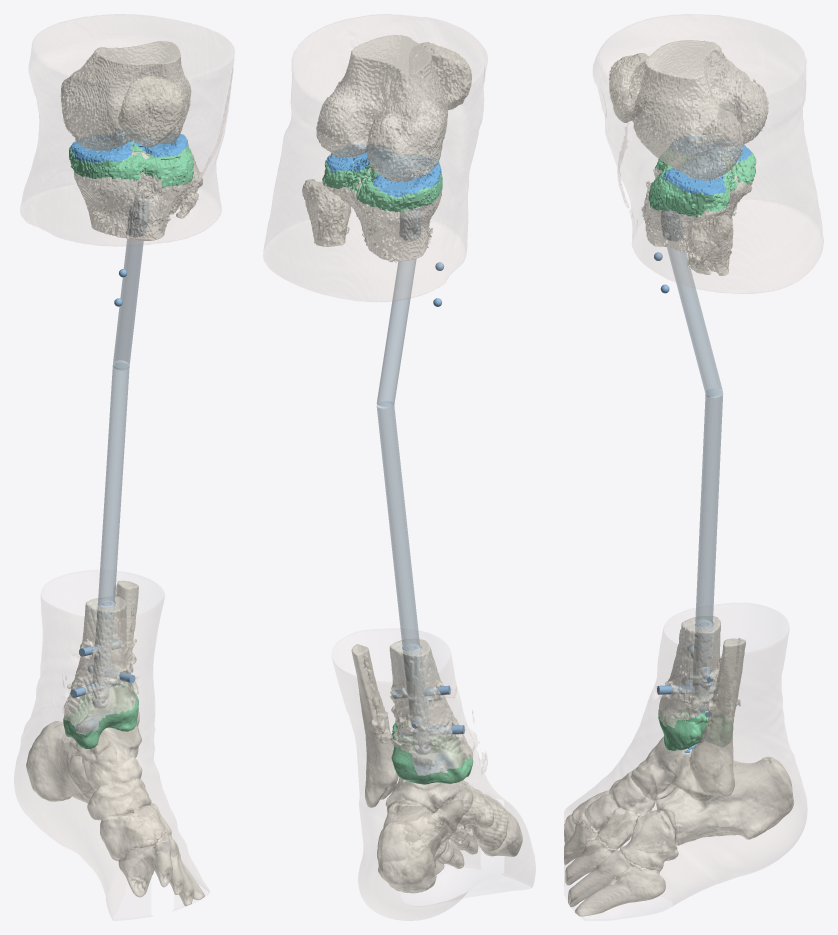
3 renders of one model, left to right at view 1: azimuth 30°, elevation 25°; view 2: azimuth 150°, elevation 25°; view 3: azimuth 270°, elevation 25°, orthographic. The views are drawn at different scales.
Parts seen in each view (by area): view 1: skin, tibia, tarsal, femur, nail_modelled, patella, metatarsal, capsule_band_knee, nail, capsule_band_ankle, articular_surface_knee, fibula (+1 smaller); view 2: skin, femur, tibia, tarsal, nail_modelled, fibula, articular_surface_knee, capsule_band_knee, nail, metatarsal, capsule_band_ankle, patella (+1 smaller); view 3: skin, tarsal, femur, tibia, fibula, nail_modelled, metatarsal, capsule_band_knee, articular_surface_knee, capsule_band_ankle, nail, patella (+1 smaller).
Part boxes in pixels (x1,y1,x2,y2): skin: (14,14,234,918); tibia: (64,145,190,749); tarsal: (26,715,171,861); femur: (60,41,191,150); nail_modelled: (98,239,143,606); patella: (118,75,185,147); metatarsal: (118,832,204,906); capsule_band_knee: (69,134,193,187); nail: (92,194,149,708); capsule_band_ankle: (63,681,138,748); articular_surface_knee: (69,129,188,163); fibula: (114,148,202,726); skin: (263,14,535,920); femur: (316,35,447,182); tibia: (322,161,472,783); tarsal: (377,753,508,893); nail_modelled: (376,259,419,651); fibula: (302,179,398,807); articular_surface_knee: (325,144,441,197); capsule_band_knee: (322,152,442,212); nail: (399,207,431,754); metatarsal: (423,803,522,874); capsule_band_ankle: (391,721,473,784); patella: (419,42,471,110); skin: (564,14,823,905); tarsal: (571,736,794,871); femur: (631,40,768,181); tibia: (641,167,753,751); fibula: (687,214,745,796); nail_modelled: (667,247,723,627); metatarsal: (564,813,665,916); capsule_band_knee: (648,147,756,217); articular_surface_knee: (663,135,752,194); capsule_band_ankle: (658,708,732,750); nail: (661,210,712,717); patella: (609,53,649,122).
Size of the model in its own units: 0.1218 by 0.5338 by 0.1468.
